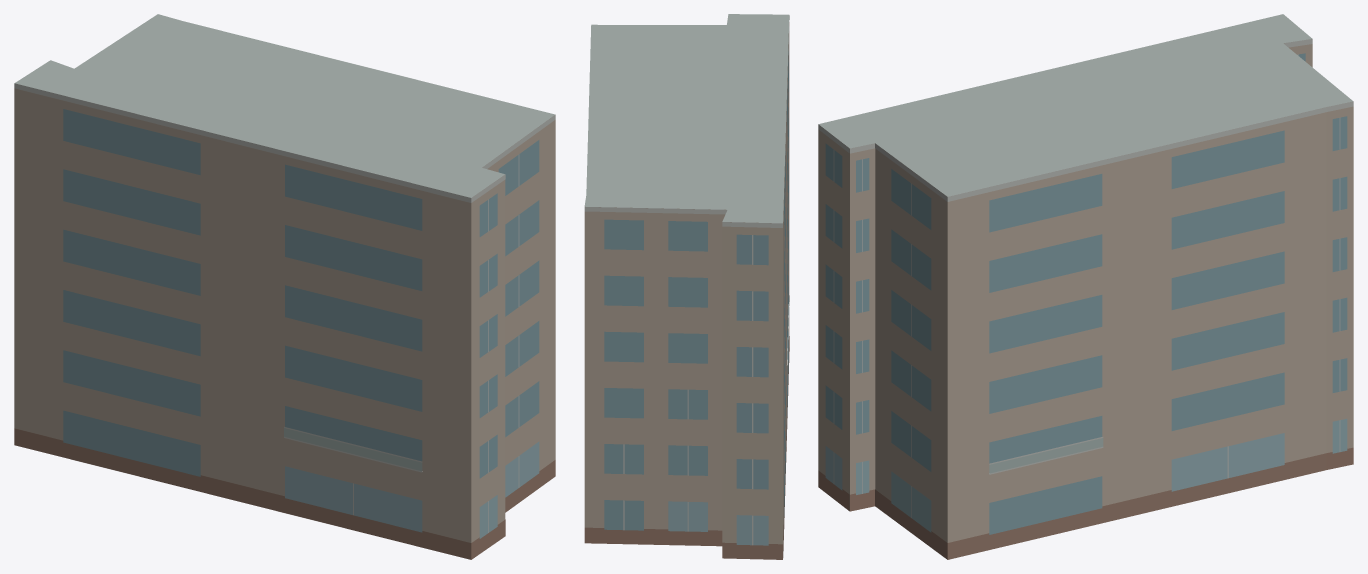
Rendered from survey-upis-32878087.glb.
3 views of the same model, side by side, from view 1: azimuth 30°, elevation 25°; view 2: azimuth 150°, elevation 25°; view 3: azimuth 270°, elevation 25° (orthographic). The views are drawn at different scales.
Visible parts, largest first — view 1: survey-upis-32878087.tmp; view 2: survey-upis-32878087.tmp; view 3: survey-upis-32878087.tmp.
Boxes of the visible parts, x1=… form: survey-upis-32878087.tmp: x1=14, y1=14, x2=555, y2=559; survey-upis-32878087.tmp: x1=584, y1=14, x2=789, y2=559; survey-upis-32878087.tmp: x1=818, y1=14, x2=1353, y2=559.
Size of the model in its own units: 18.81 by 17.4 by 23.26.
